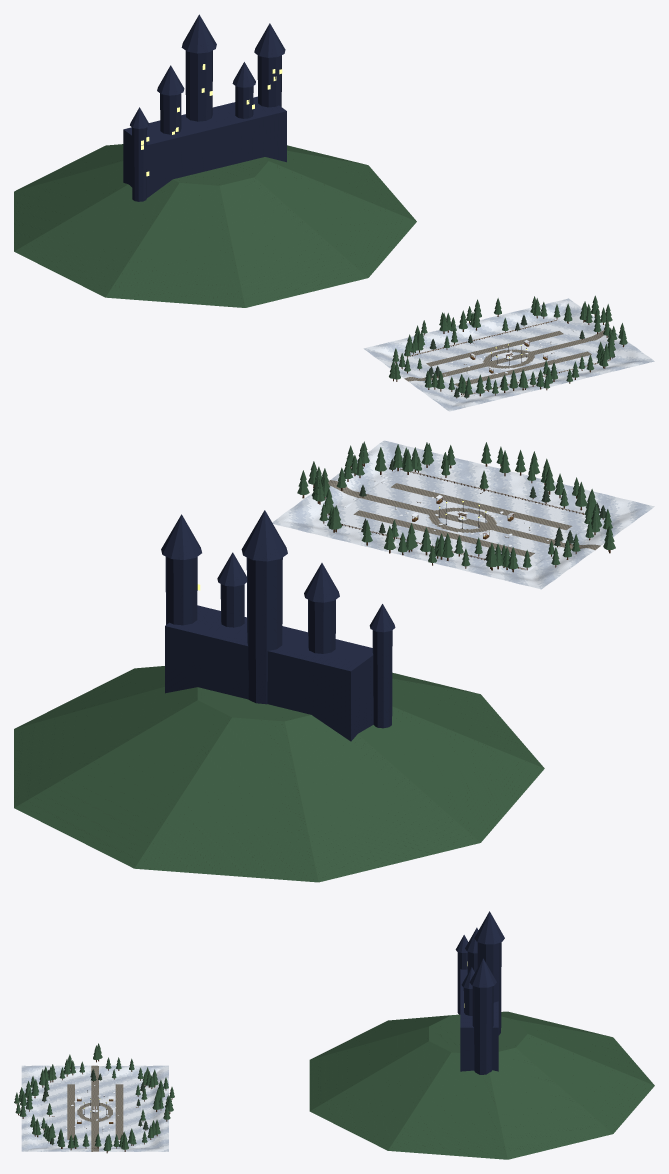
The model's file is hogsmeade.glb.
3 views of the same model, one above another, from view 1: azimuth 30°, elevation 25°; view 2: azimuth 150°, elevation 25°; view 3: azimuth 270°, elevation 25° (orthographic). The views are drawn at different scales.
Parts seen in each view (by area): view 1: hog_far_castle, ground; view 2: hog_far_castle, ground; view 3: hog_far_castle, ground.
Boxes of the visible parts, x1,y1,x2,y2 form: hog_far_castle: [14, 14, 416, 307]; ground: [363, 298, 654, 411]; hog_far_castle: [14, 510, 544, 882]; ground: [272, 440, 654, 589]; hog_far_castle: [309, 911, 654, 1159]; ground: [21, 1065, 168, 1151].
Bounding box in the file's own units: 283 × 150 × 504.
1 material, 1 textured.
